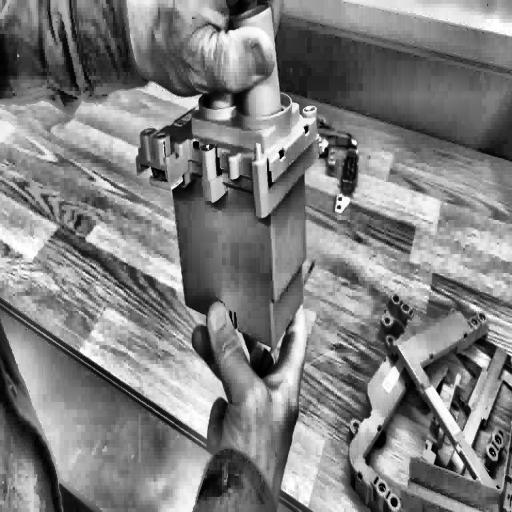connector: (125, 0, 328, 363)
